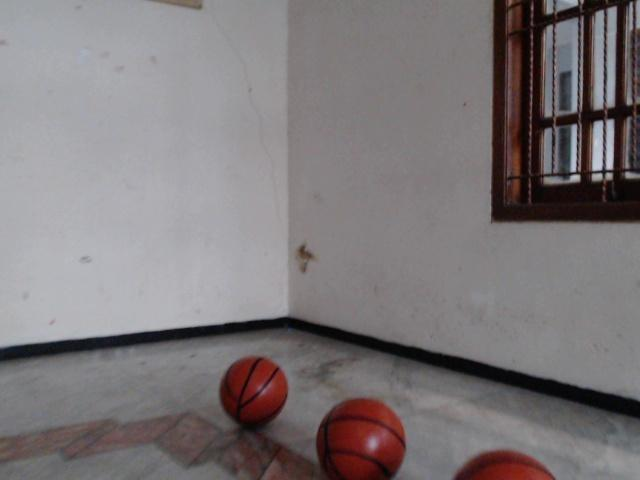Sports-Ball: (312, 395, 411, 480), (216, 352, 295, 434)
